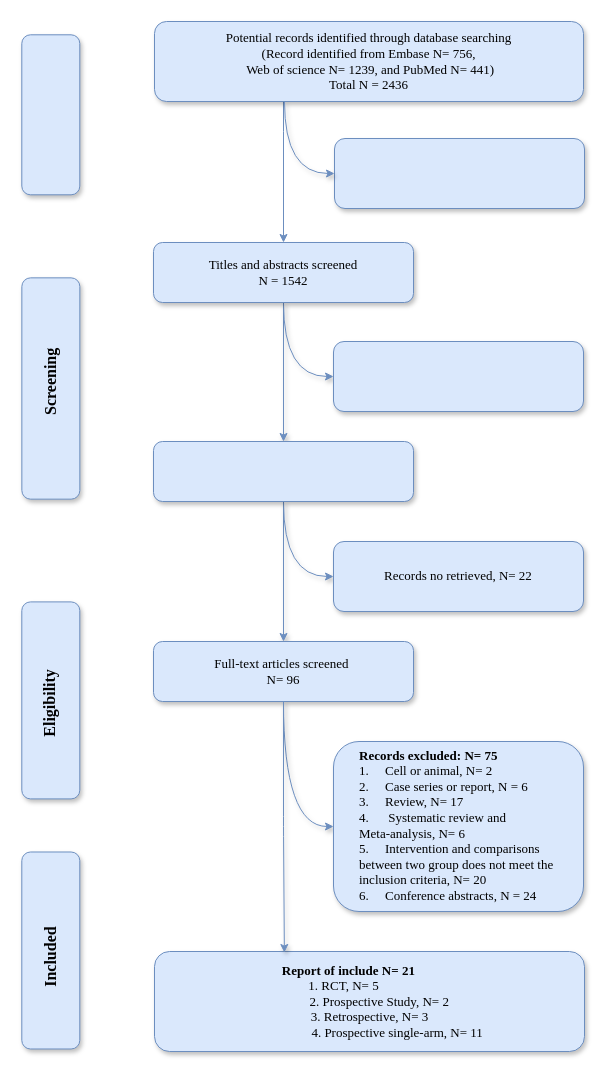
The diagram is 609 pixels wide and 1076 high, and some of its shapes have lost their labels. The centre of each missing label's shape, as x and y in pixels:
"Identification" belongs at point (51, 115).
"Records exclude, N = 1424" belongs at point (459, 377).
"Records remove before screening: Duplicate remove, N= 894" belongs at point (460, 175).
"Records sought for retrieval N= 118" belongs at point (284, 472).
